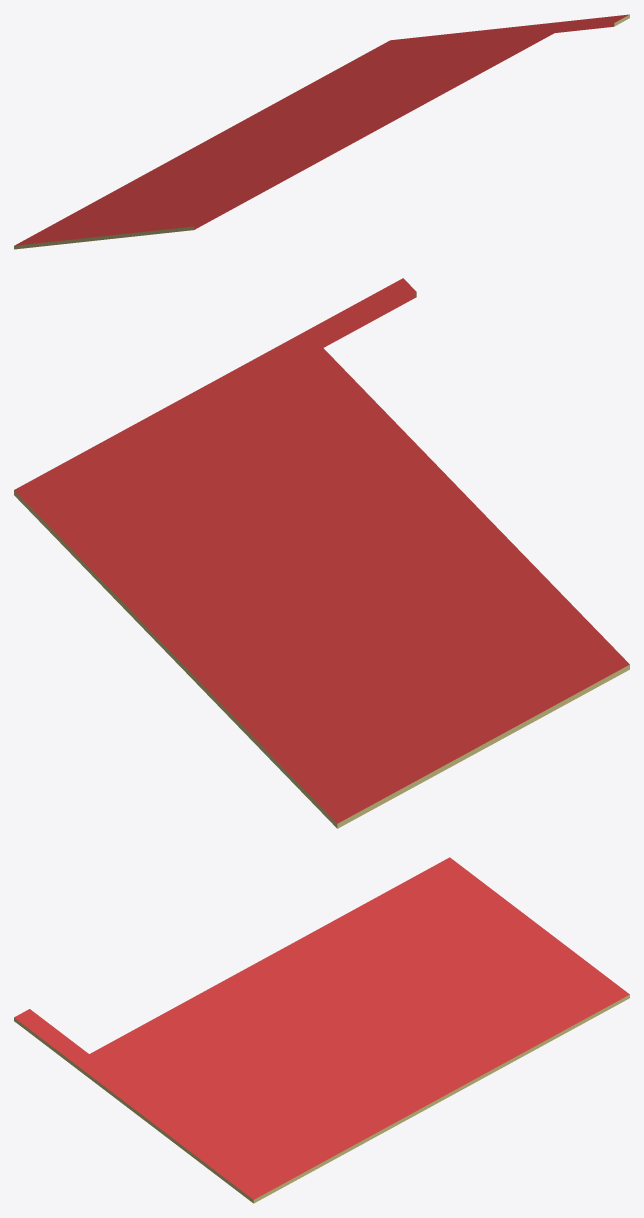
The picture shows the model from 3 angles, top to bottom: view 1: azimuth 90°, elevation 25°; view 2: azimuth 150°, elevation 25°; view 3: azimuth 270°, elevation 25°; orthographic projection. The views are drawn at different scales.
Size of the model in its own units: 15.36 by 15.12 by 2.92.
